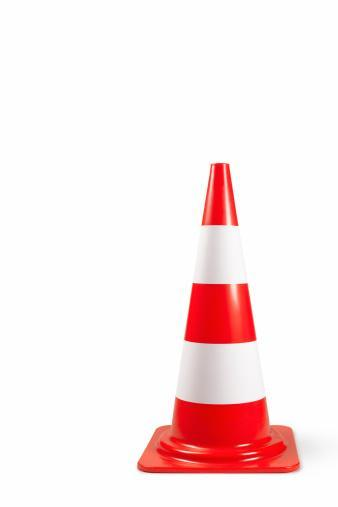Cone: (135, 160, 306, 473)
